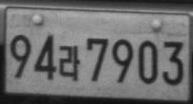0: (137, 40, 158, 84)
3: (162, 41, 183, 85)
4: (33, 34, 57, 80)
7: (86, 38, 109, 82)
9: (9, 34, 32, 79), (111, 38, 134, 83)
라: (58, 45, 81, 82)
